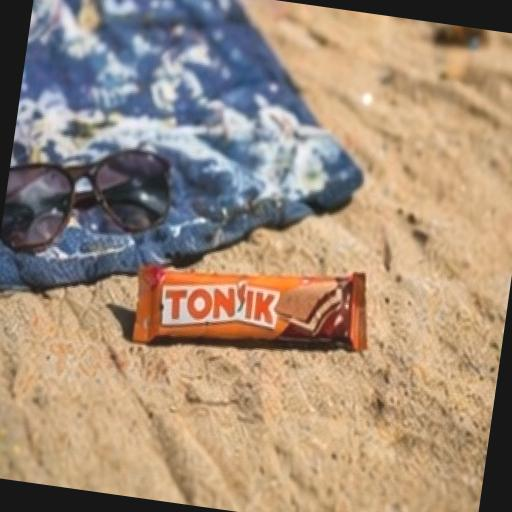tonik: (70, 184, 446, 434)
